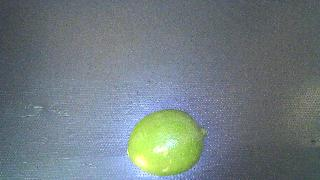EXPORTACION: (127, 109, 206, 176)
